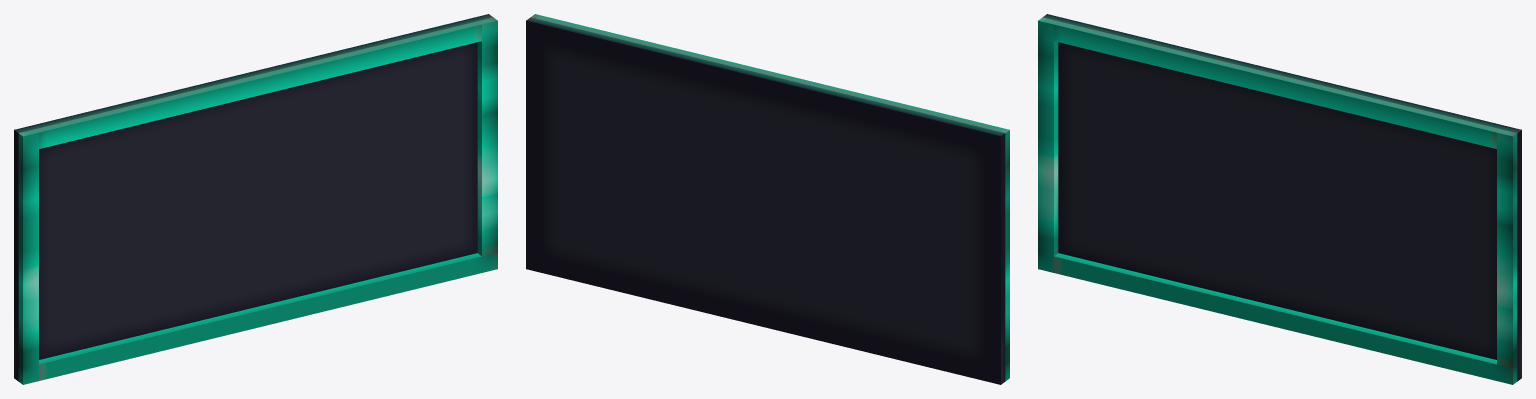
File: BillboardModule_Backplate_B_00.fbx
3 renders of one model, left to right at view 1: azimuth 30°, elevation 25°; view 2: azimuth 150°, elevation 25°; view 3: azimuth 330°, elevation 25°, orthographic.
Parts seen in each view (by area): view 1: BillboardModule_Backplate_B_00; view 2: BillboardModule_Backplate_B_00; view 3: BillboardModule_Backplate_B_00.
Part boxes in pixels (left/top/right/bottom): BillboardModule_Backplate_B_00: left=14, top=14, right=497, bottom=384; BillboardModule_Backplate_B_00: left=526, top=14, right=1009, bottom=384; BillboardModule_Backplate_B_00: left=1038, top=14, right=1521, bottom=384.
Size of the model in its own units: 300 by 150 by 10.
